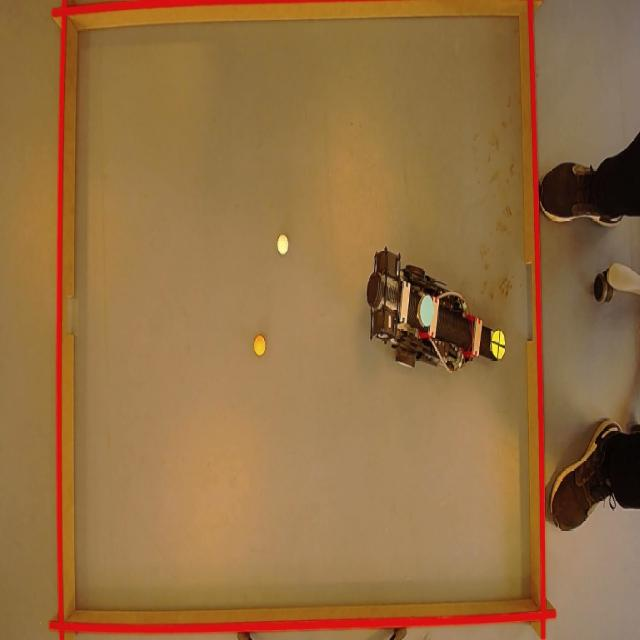orange: (252, 333, 268, 356)
robot: (362, 248, 515, 378)
robot-front: (491, 328, 506, 360)
robot-rear: (415, 296, 437, 326)
white: (275, 234, 289, 254)
